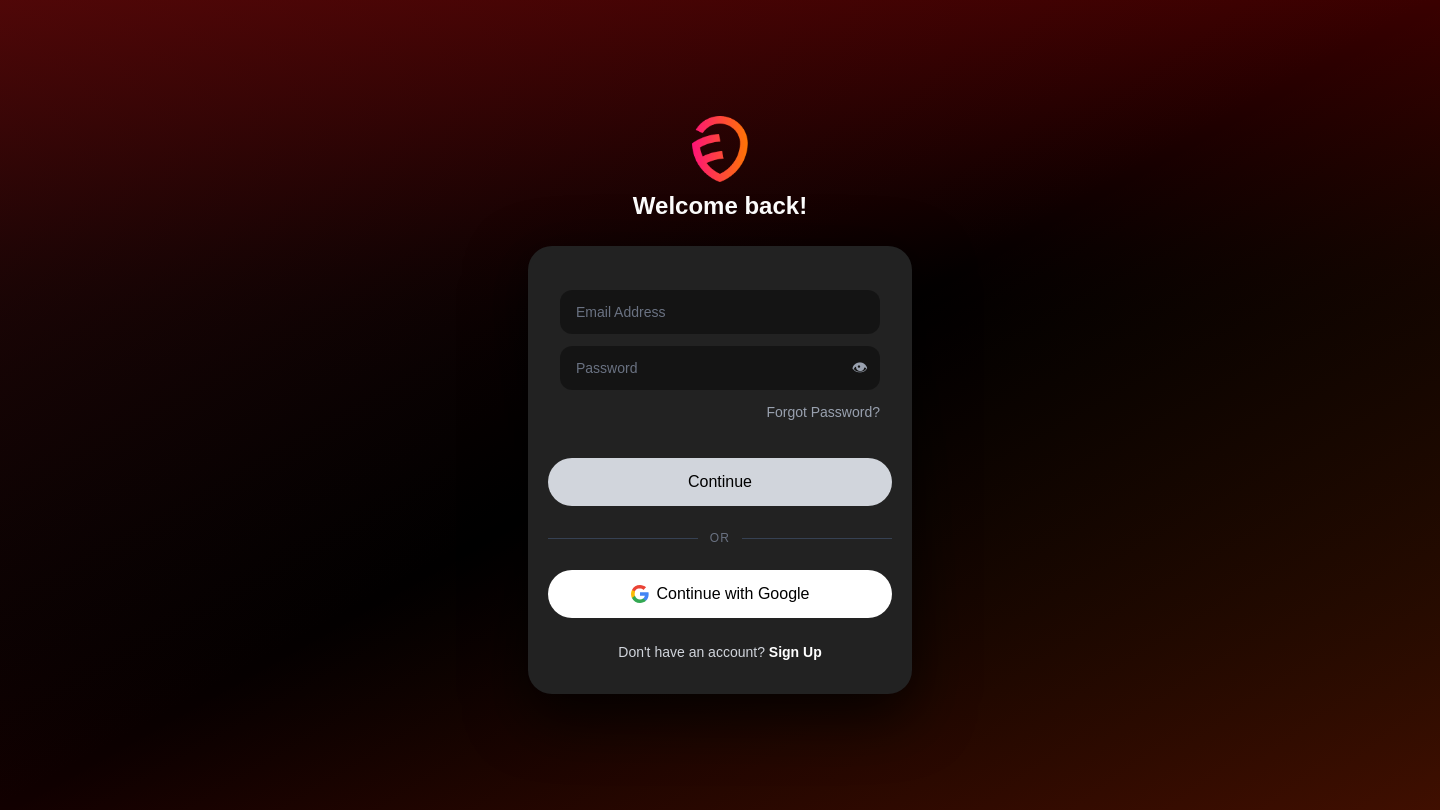
Test: LoginPage - Login Flow › should handle network error
Type "test@example.com" into the field with placeholder "Email Address" at (720, 312), box 560,290 -> 880,334
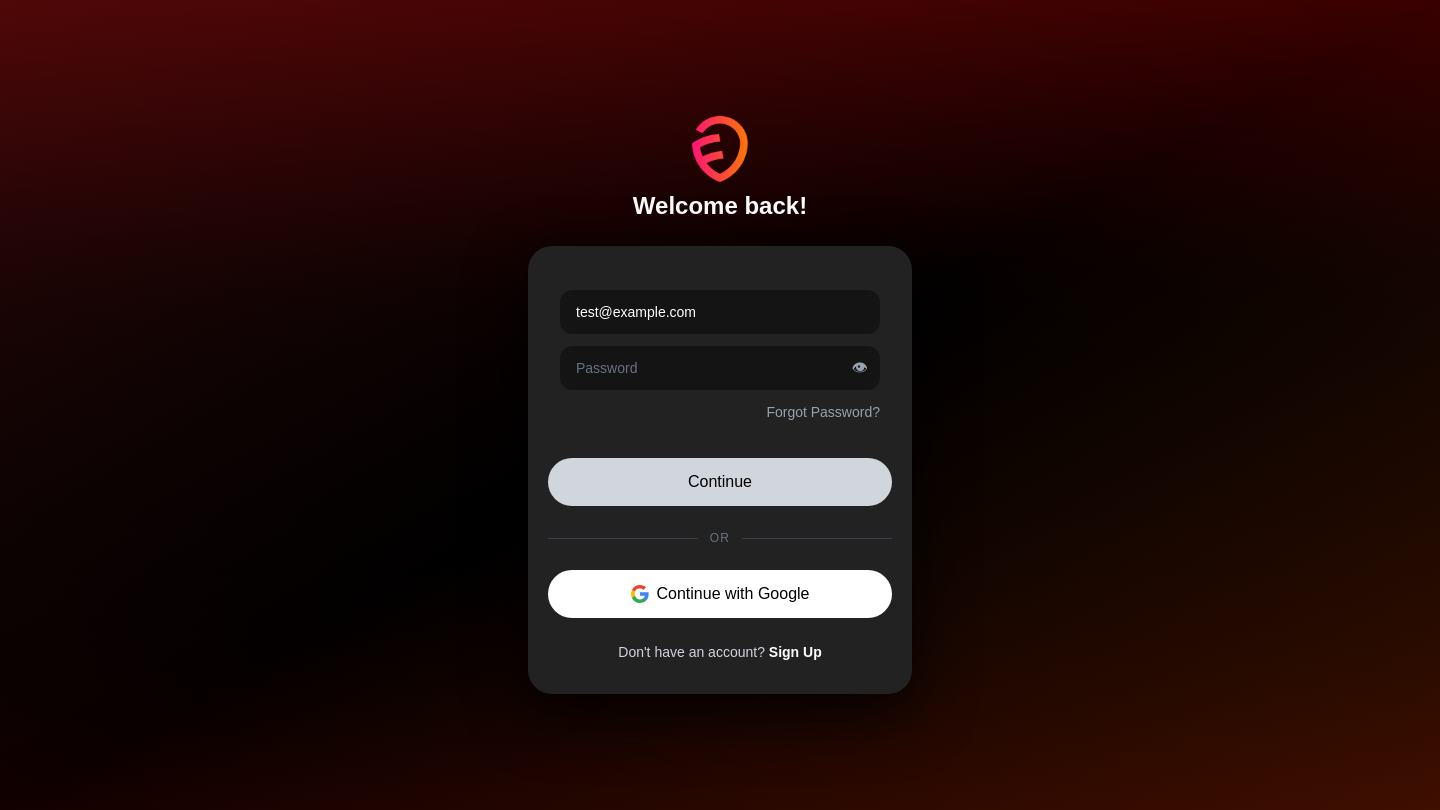
Type "Password123!" into the password field with placeholder "Password" at (720, 368), box 560,346 -> 880,390
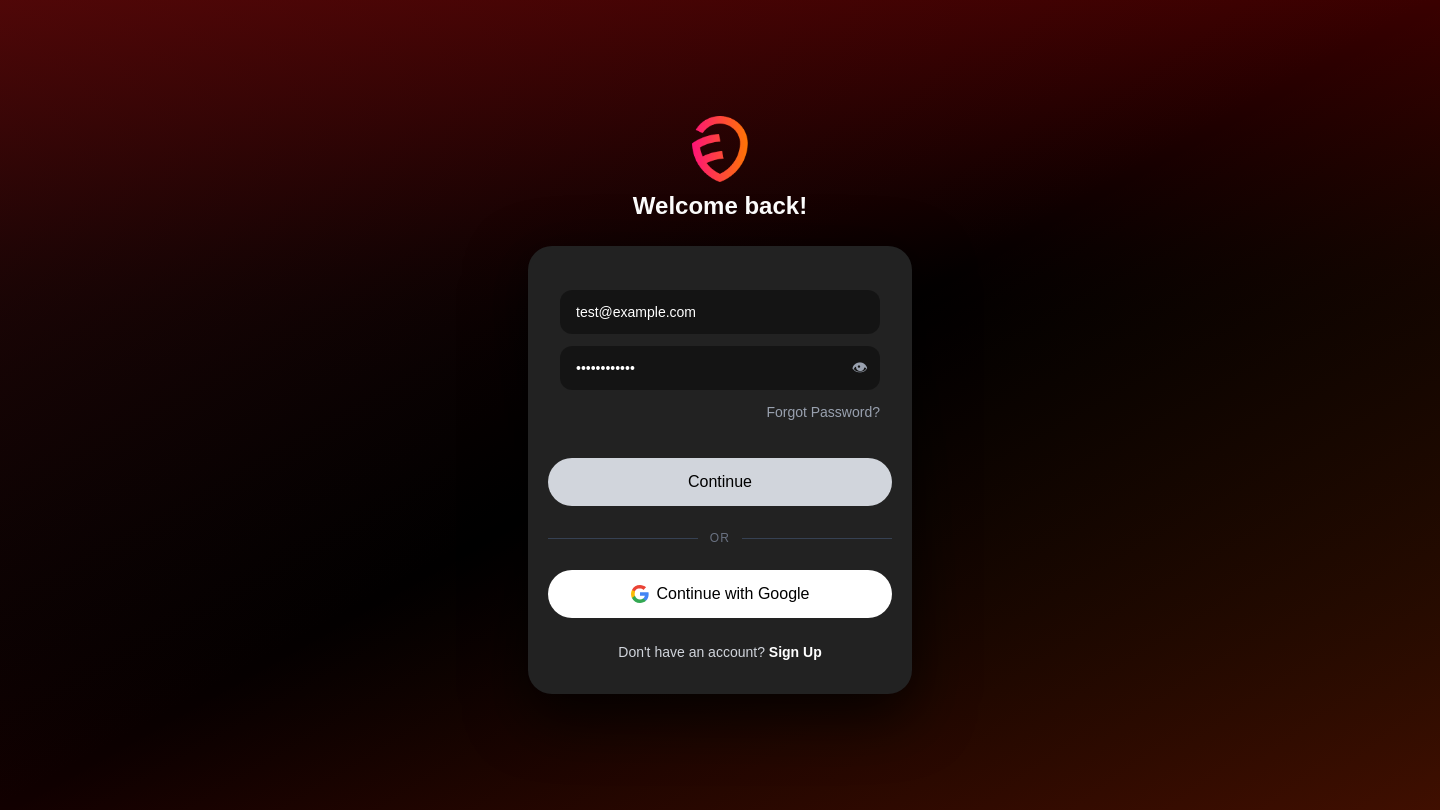
Click the button "Continue" at (720, 482), box 548,458 -> 892,506
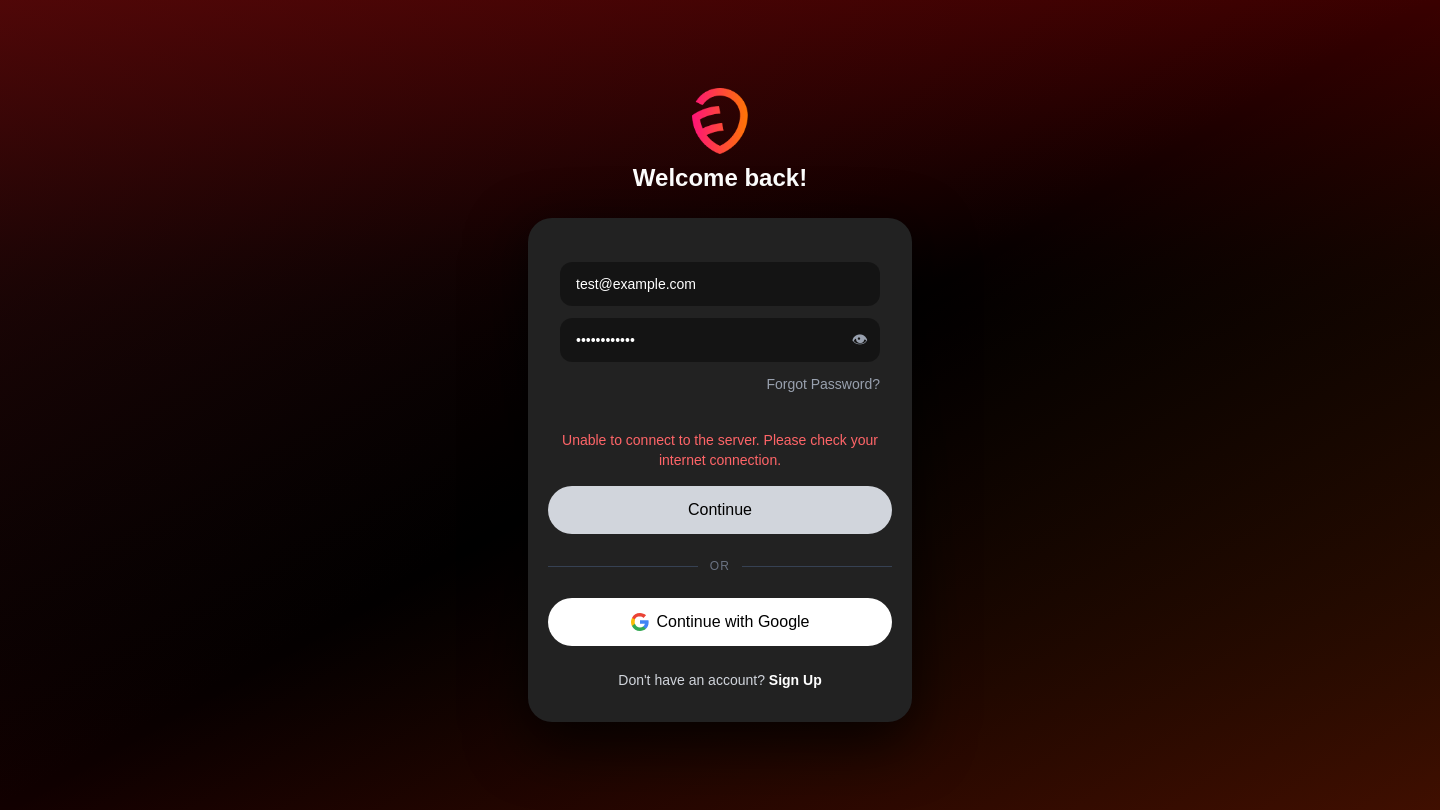
expect the text "Unable to connect" is shown: met, box 562,432 -> 878,468
